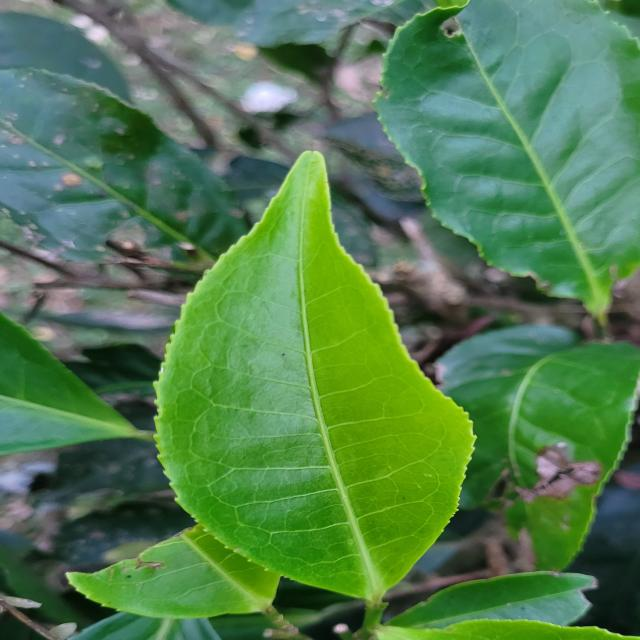Catagory A(1-2 days): (139, 140, 486, 611)
